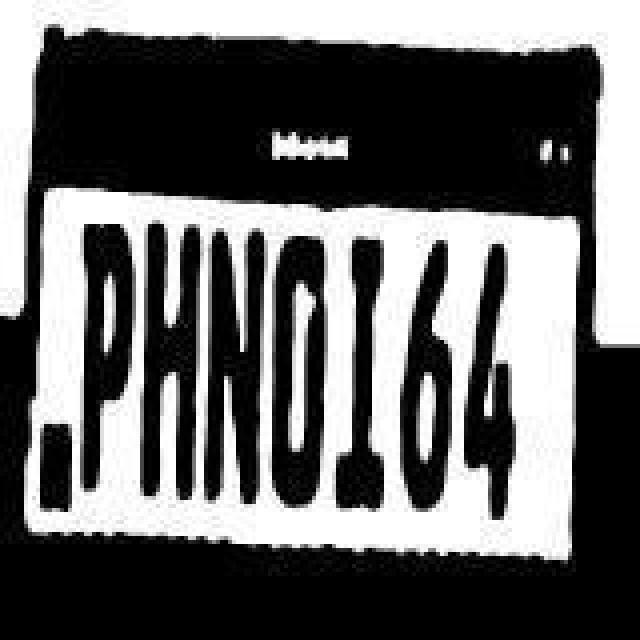4: (460, 238, 516, 530)
6: (396, 234, 452, 510)
D: (268, 226, 324, 510)
H: (136, 214, 200, 506)
I: (334, 228, 386, 516)
N: (204, 228, 268, 508)
P: (80, 210, 136, 494)
